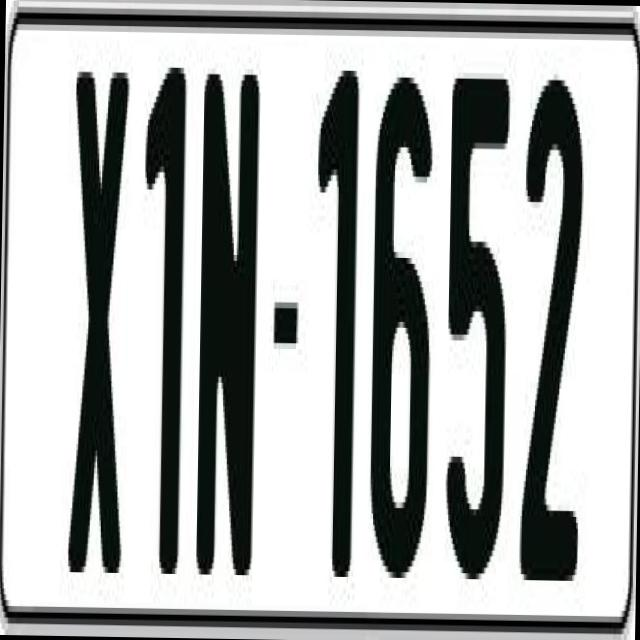1: (134, 55, 188, 568), (309, 64, 360, 571)
2: (517, 74, 593, 586)
5: (438, 78, 513, 614)
6: (364, 59, 432, 561)
N: (190, 62, 262, 575)
X: (68, 65, 132, 596)
